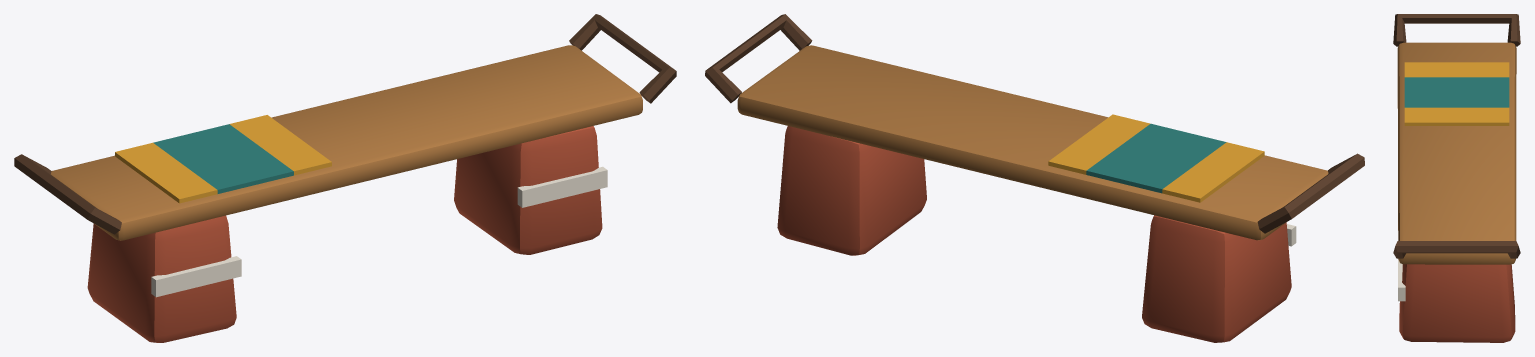
The model's file is deco_bench_carved.fbx.
3 renders of one model, left to right at view 1: azimuth 30°, elevation 25°; view 2: azimuth 150°, elevation 25°; view 3: azimuth 270°, elevation 25°, orthographic. The views are drawn at different scales.
Parts seen in each view (by area): view 1: Bench_Carved_Seat, Bench_Carved_Legs, Bench_Carved_Blanket; view 2: Bench_Carved_Seat, Bench_Carved_Legs, Bench_Carved_Blanket; view 3: Bench_Carved_Seat, Bench_Carved_Legs, Bench_Carved_Blanket.
Part boxes in pixels (x1=…): Bench_Carved_Seat: x1=14, y1=14, x2=676, y2=240; Bench_Carved_Legs: x1=87, y1=126, x2=607, y2=342; Bench_Carved_Blanket: x1=115, y1=115, x2=331, y2=203; Bench_Carved_Seat: x1=705, y1=14, x2=1364, y2=240; Bench_Carved_Legs: x1=777, y1=126, x2=1296, y2=342; Bench_Carved_Blanket: x1=1048, y1=114, x2=1264, y2=202; Bench_Carved_Seat: x1=1393, y1=14, x2=1520, y2=264; Bench_Carved_Legs: x1=1398, y1=259, x2=1515, y2=342; Bench_Carved_Blanket: x1=1404, y1=62, x2=1509, y2=125.
Bounding box in the file's own units: 290 × 76.01 × 67.
